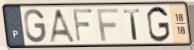A: (48, 8, 77, 44)
F: (95, 7, 120, 43), (71, 8, 95, 44)
G: (145, 5, 172, 44), (23, 8, 48, 44)
T: (122, 8, 142, 42)
